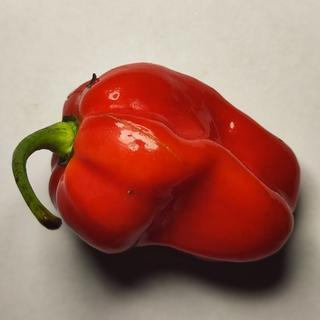Defect: (81, 71, 101, 92)
Fly-bites: (123, 185, 138, 203)
